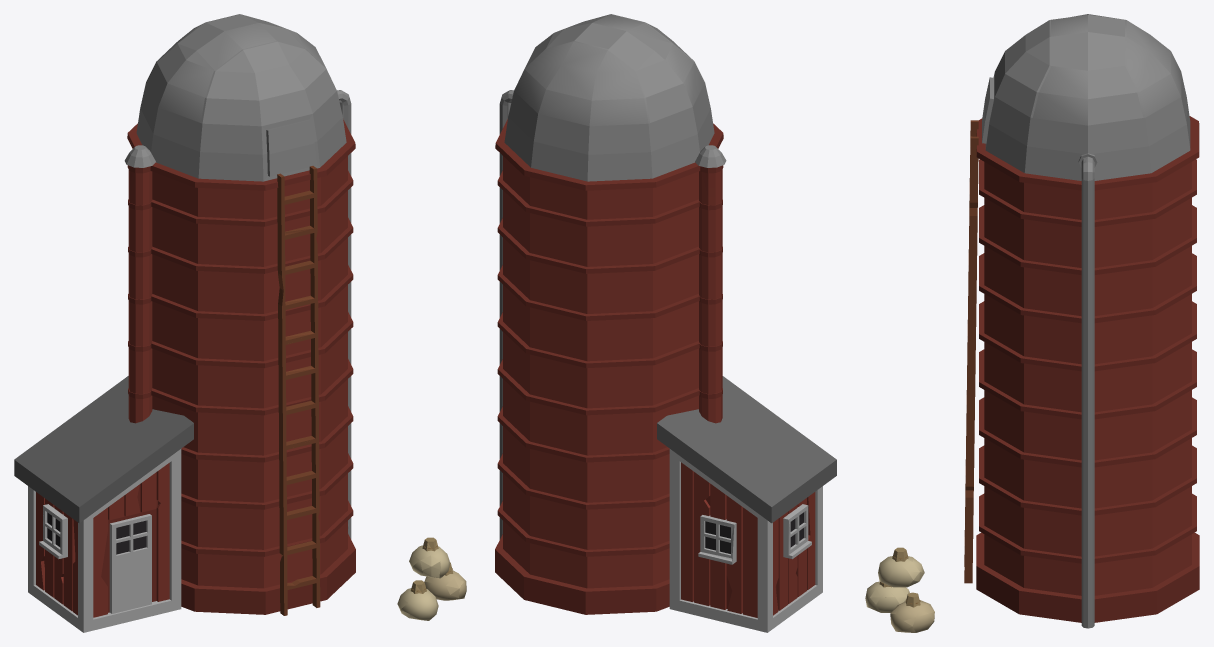
File: feed_mill.glb
3 renders of one model, left to right at view 1: azimuth 30°, elevation 25°; view 2: azimuth 150°, elevation 25°; view 3: azimuth 270°, elevation 25°, orthographic.
Parts seen in each view (by area): view 1: building-feed_mill, building-feed_mill-far; view 2: building-feed_mill-far, building-feed_mill; view 3: building-feed_mill, building-feed_mill-far.
Part boxes in pixels (bbox=[...]): building-feed_mill: bbox=[14, 14, 466, 632]; building-feed_mill-far: bbox=[14, 14, 463, 632]; building-feed_mill-far: bbox=[495, 14, 836, 632]; building-feed_mill: bbox=[496, 14, 824, 632]; building-feed_mill: bbox=[865, 14, 1199, 632]; building-feed_mill-far: bbox=[868, 15, 1199, 632].
Bounding box in the file's own units: 4.61 × 7.2 × 3.96.
